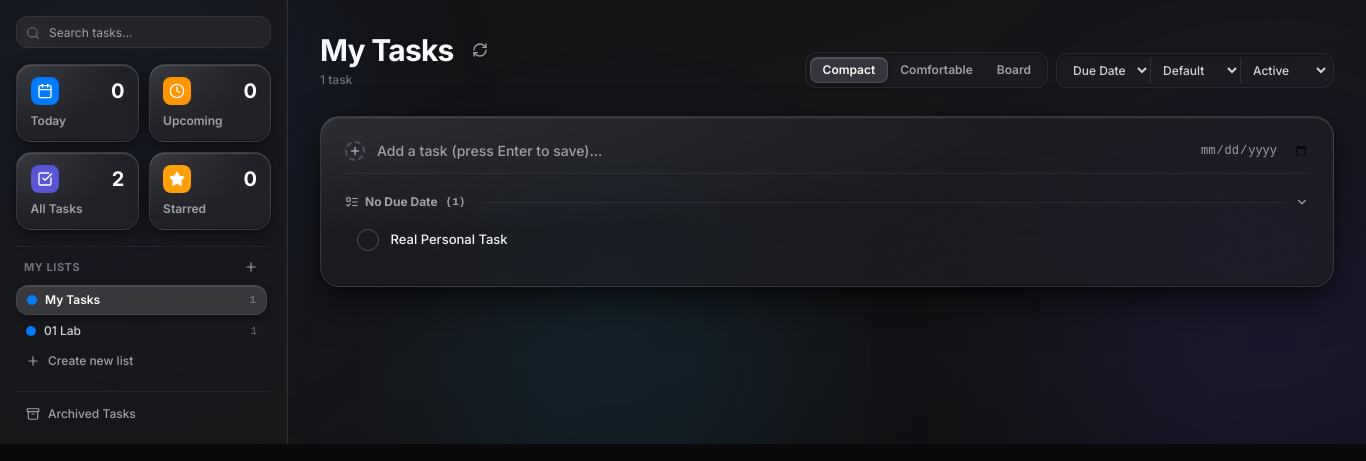
Tasks View Fixes & Reliability › TasksView isolates tasks even when taskListId was defaulted to list_default if taskListName names a custom list
The width and height of the screenshot is (1366, 461).
expect the text "Real Personal Task" is shown: met, box [391,230,508,250]
expect the text "Corrupted Lab Task with list_default id" is not shown: met
Note: Click 01 Lab: Corrupted Lab Task IS shown, Real Personal Task is NOT shown
Click the button "01 Lab 1".
click(142, 331)  # box [16,317,267,345]
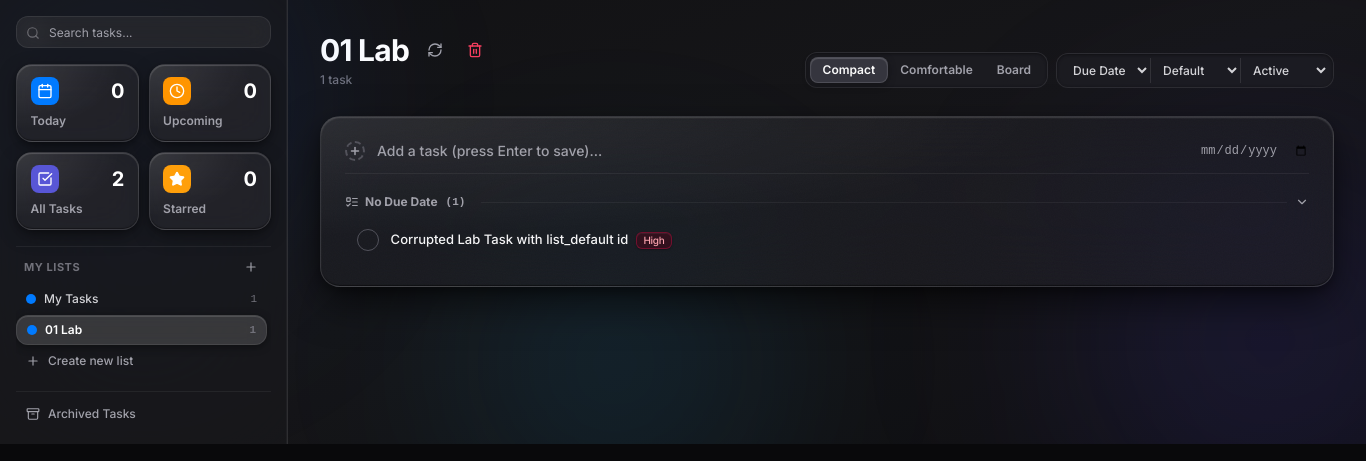
expect the text "Corrupted Lab Task with list_default id" is shown: met, box [391,230,628,250]
expect the text "Real Personal Task" is gone: met
